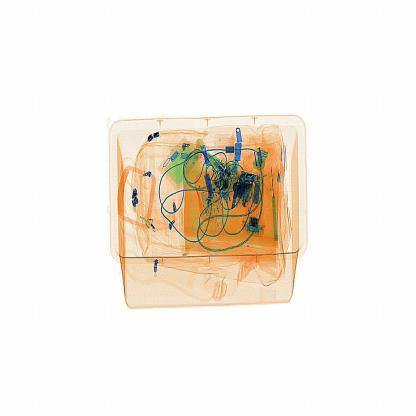wrench: (265, 156, 285, 250)
